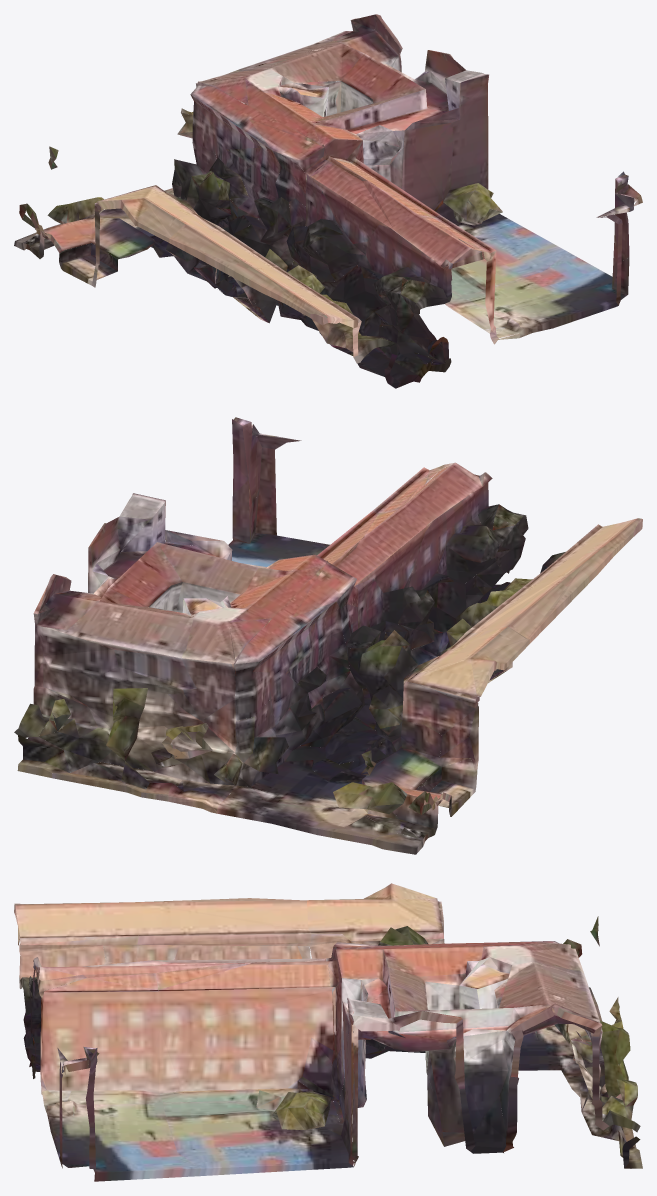
3 views of the same model, one above another, from view 1: azimuth 30°, elevation 25°; view 2: azimuth 150°, elevation 25°; view 3: azimuth 270°, elevation 25° (orthographic). The views are drawn at different scales.
Visible parts, largest first — view 1: Mesh_0; view 2: Mesh_0; view 3: Mesh_0.
Boxes of the visible parts, <box> form: Mesh_0: <box>14,14,642,388</box>; Mesh_0: <box>14,417,642,854</box>; Mesh_0: <box>14,883,642,1181</box>.
Bounding box in the file's own units: 66.86 × 26.35 × 82.63.
Materials: 2 (2 with a texture image).
